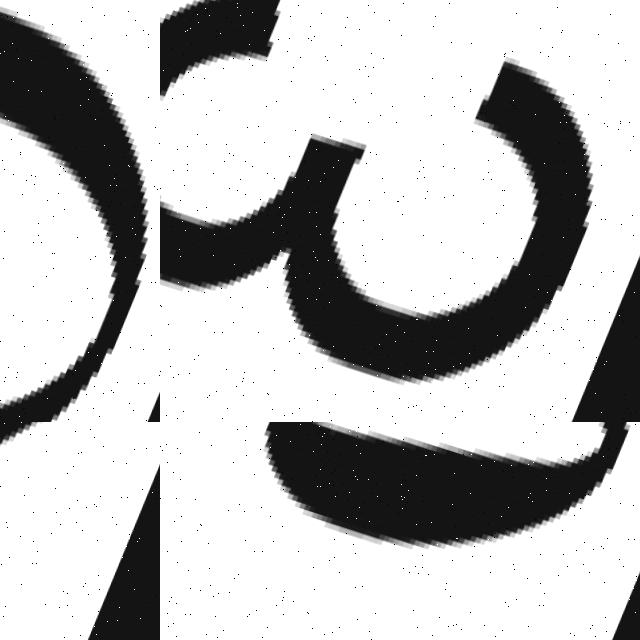3: (160, 0, 640, 422)
9: (0, 422, 160, 565)
B: (273, 422, 638, 544)
O: (0, 7, 156, 422)
